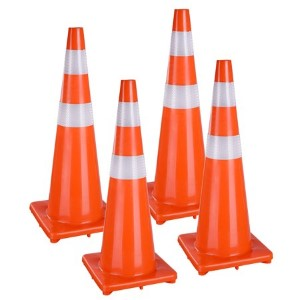traffic cone: (178, 60, 273, 276), (82, 79, 178, 292), (136, 8, 229, 225), (29, 27, 122, 239)
